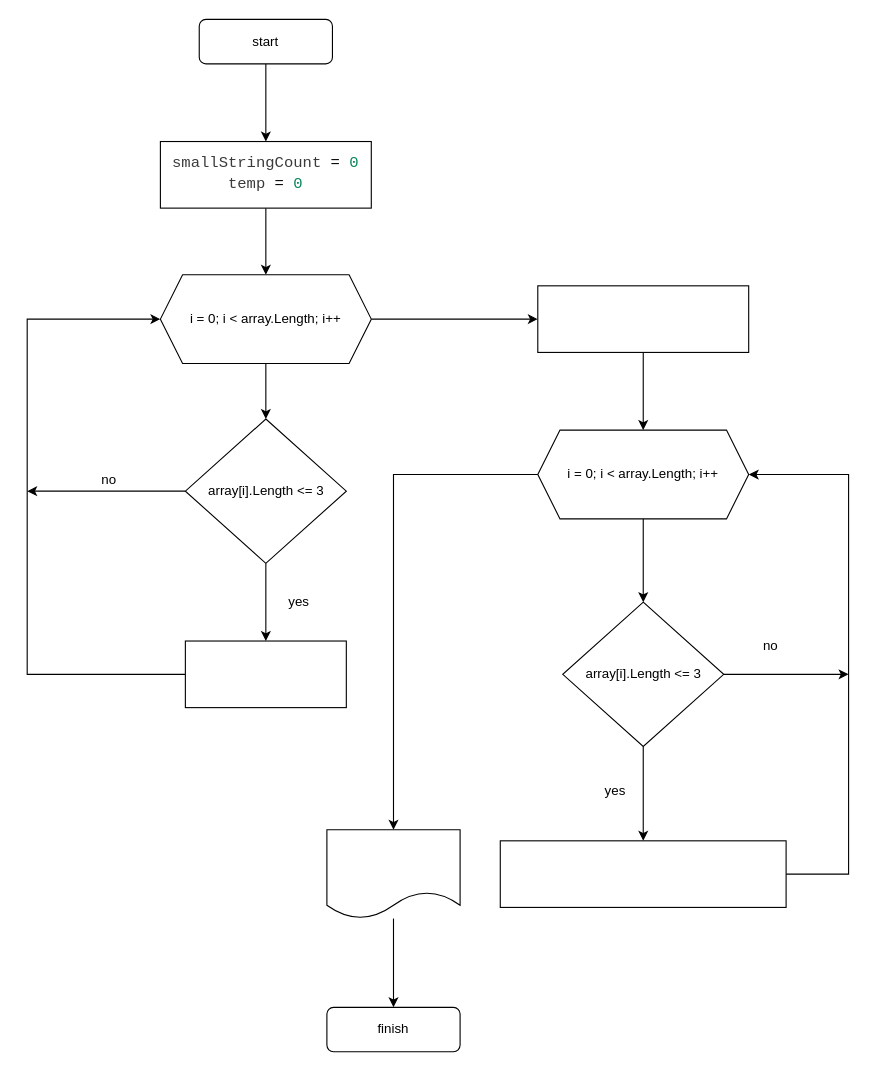
Image size: 877x1071. Some labels were removed from this diagram. The centre of each missing label's shape, as x and y in pixels:
"[] smallArray = new [ smallStringCount ]" belongs at point (643, 318).
"return smallArray" belongs at point (393, 874).
"smallArray[ temp ] = array [ i ] temp += 1 ;" belongs at point (642, 873).
"smallStringCount += 1" belongs at point (265, 674).
